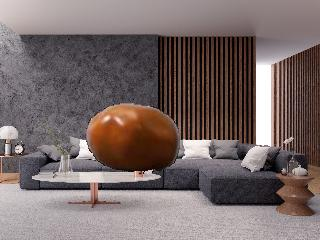potato: (82, 98, 184, 176)
